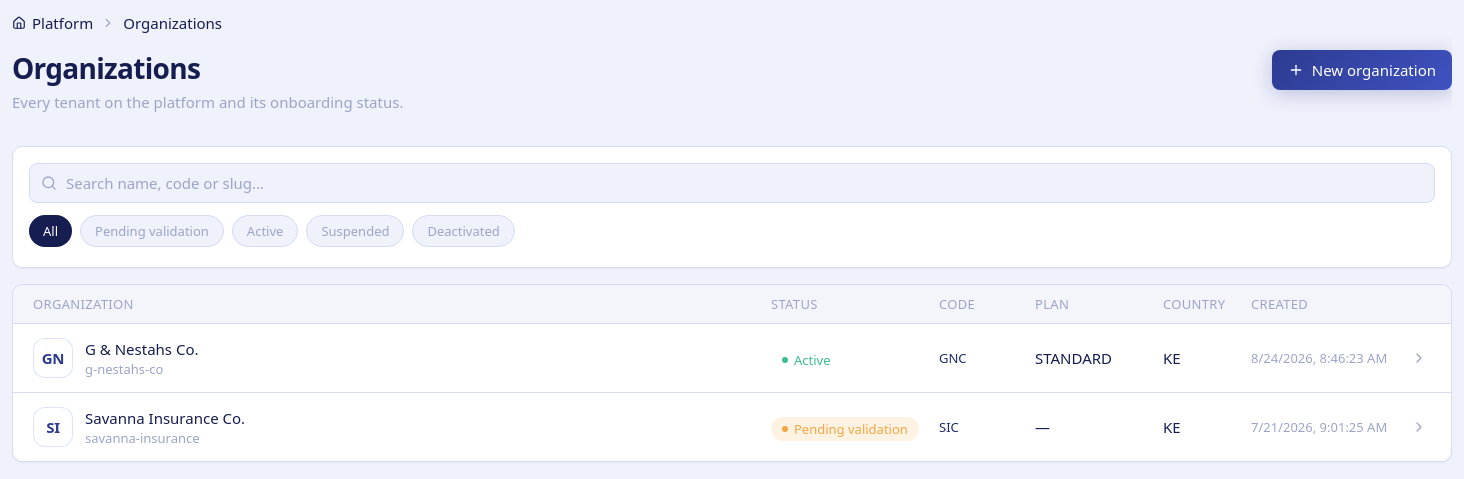
Test: PlatformOrganizations › filters the rendered rows by search term
Expected: the text "G & Nestahs Co." is shown, [85,338,198,360]
Type "savanna" into the field named "Search organizations" at coordinates (732, 183), box [29,163,1435,203]
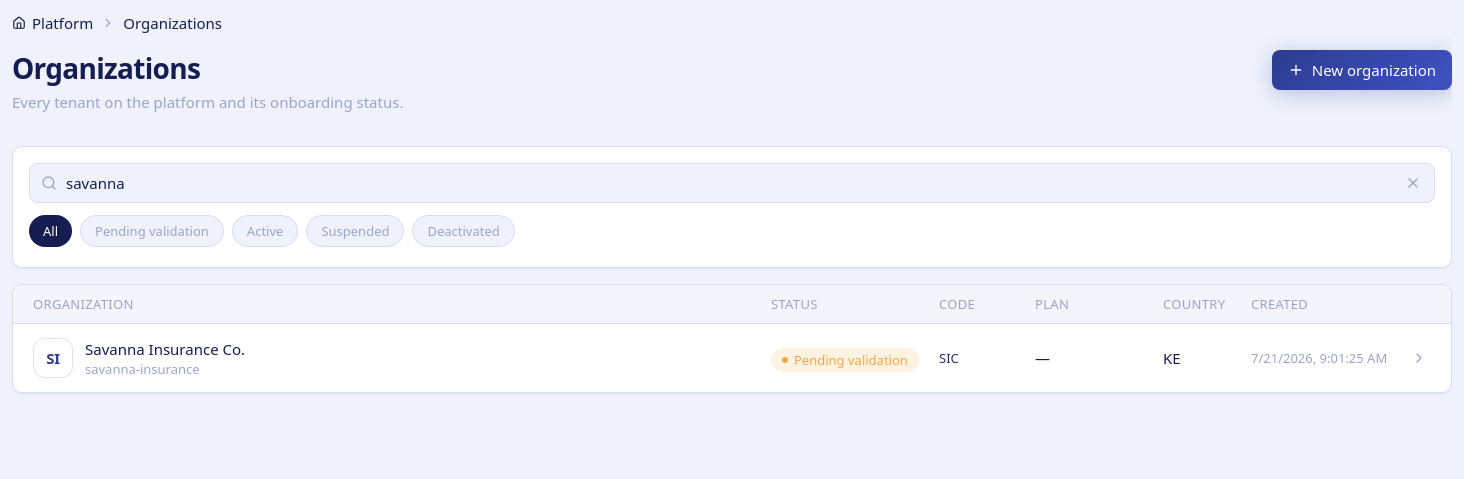
Expected: the text "Savanna Insurance Co." is shown, [85,338,245,360]
Now the link "G & Nestahs Co." is gone
